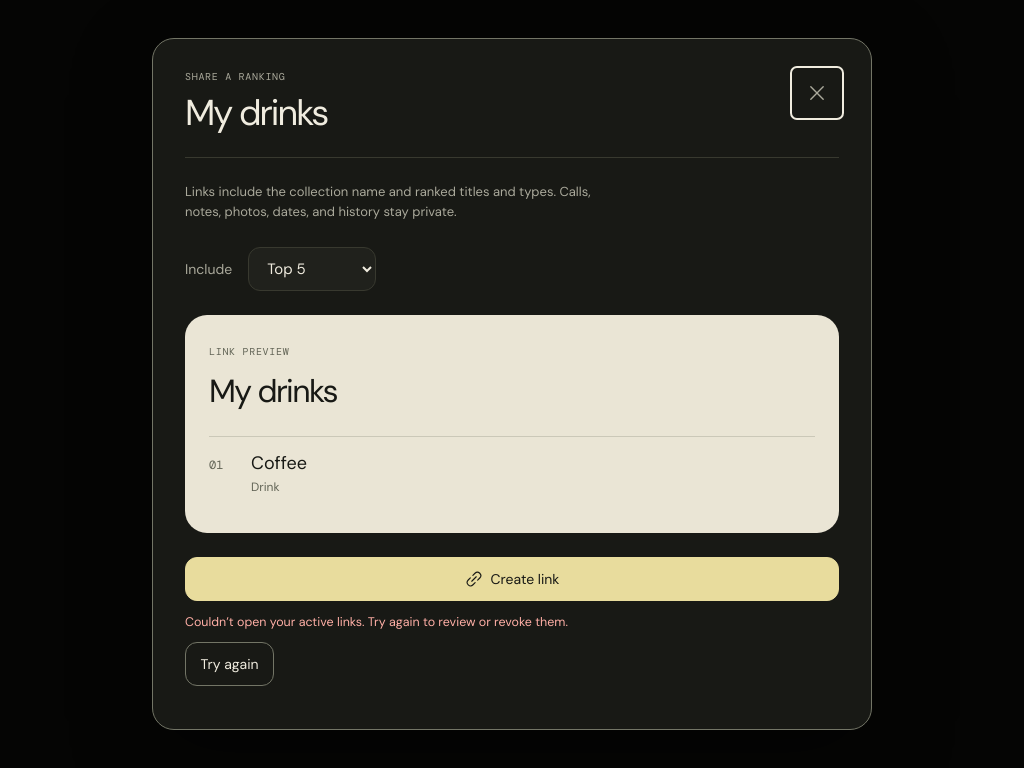
Test case: a failed active-link lookup stays visible and can be retried
The image size is (1024, 768).
Check: the message reads "Couldn’t open your active links. Try again to review or revoke them. Try again", box x1=185 y1=614 x2=568 y2=630
Click the button "Try again".
click(230, 664)  # box x1=185 y1=642 x2=274 y2=686
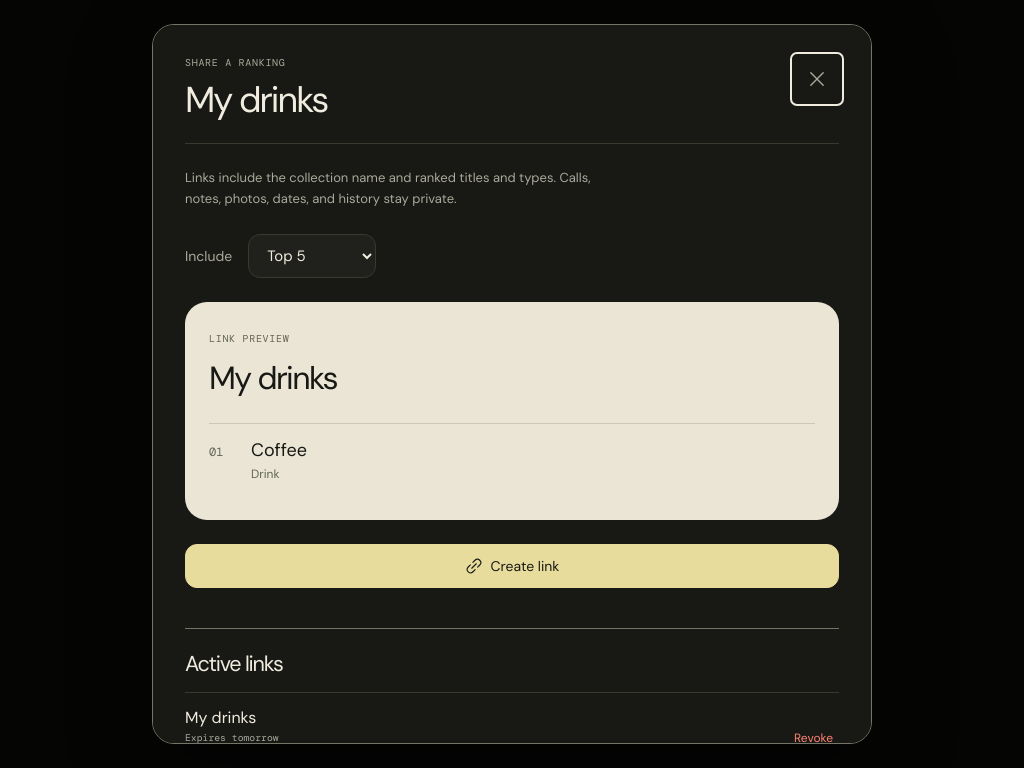
Check: the button "Revoke" is shown, box x1=788 y1=729 x2=839 y2=744
Check: the message "Couldn’t open your active links. Try again to review or revoke them. Try again" is gone
